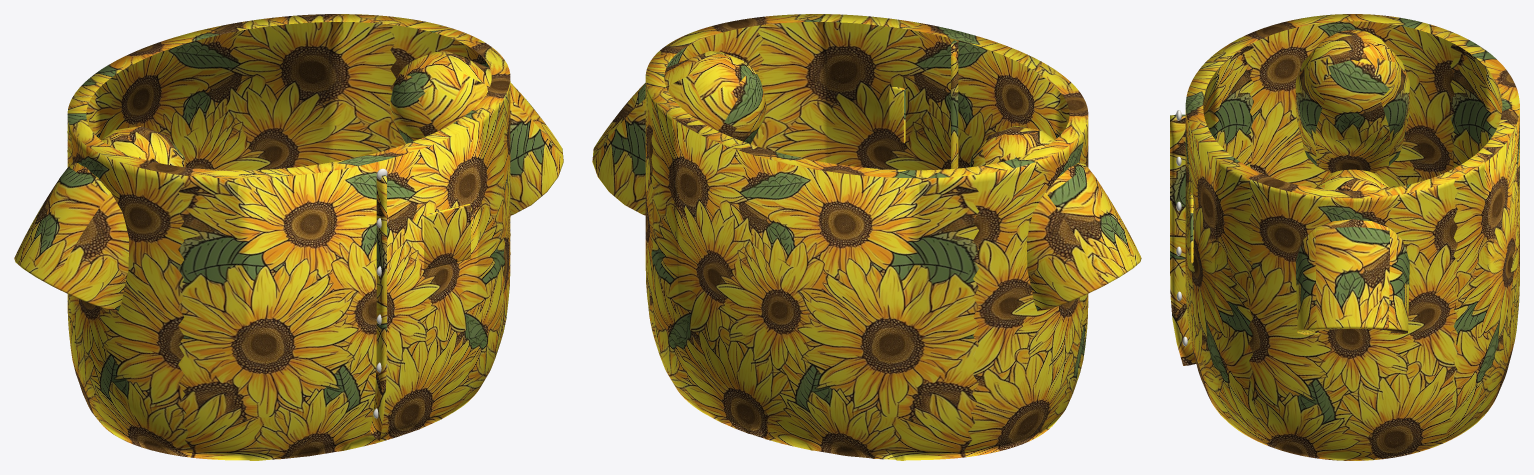
Rendered from beachshirt1.fbx.
The picture shows the model from 3 angles, left to right: view 1: azimuth 30°, elevation 25°; view 2: azimuth 150°, elevation 25°; view 3: azimuth 270°, elevation 25°; orthographic projection. The views are drawn at different scales.
Parts seen in each view (by area): view 1: beachshirt1; view 2: beachshirt1; view 3: beachshirt1.
Part boxes in pixels (bbox=[...]): beachshirt1: bbox=[14, 14, 563, 460]; beachshirt1: bbox=[592, 14, 1141, 460]; beachshirt1: bbox=[1170, 14, 1519, 460].
Size of the model in its own units: 1.11 by 0.589 by 0.6785.
Materials: 2 (1 with a texture image).
